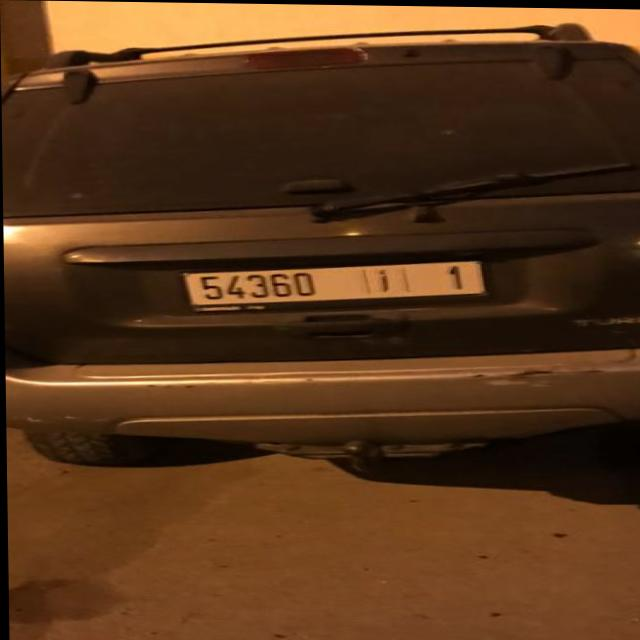License-Plate: (188, 261, 482, 304)
